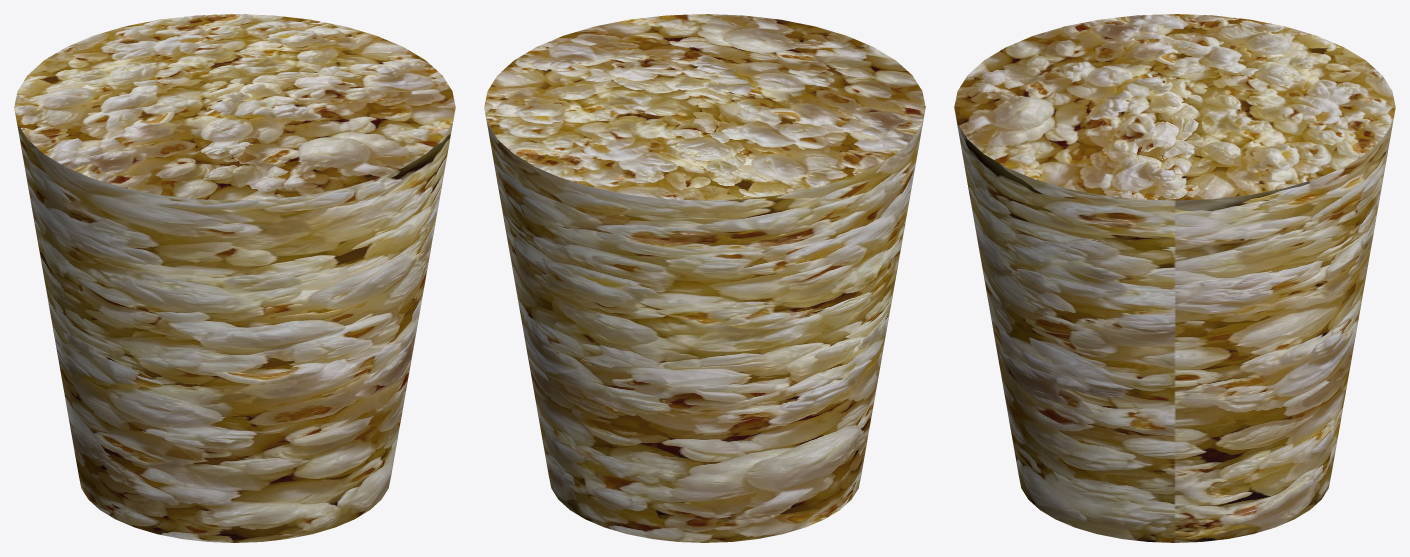
File: p3-popcorn.glb
3 renders of one model, left to right at view 1: azimuth 30°, elevation 25°; view 2: azimuth 150°, elevation 25°; view 3: azimuth 270°, elevation 25°, orthographic.
Bounding box in the file's own units: 1.84 × 1.78 × 1.84.
1 material, 1 textured.
